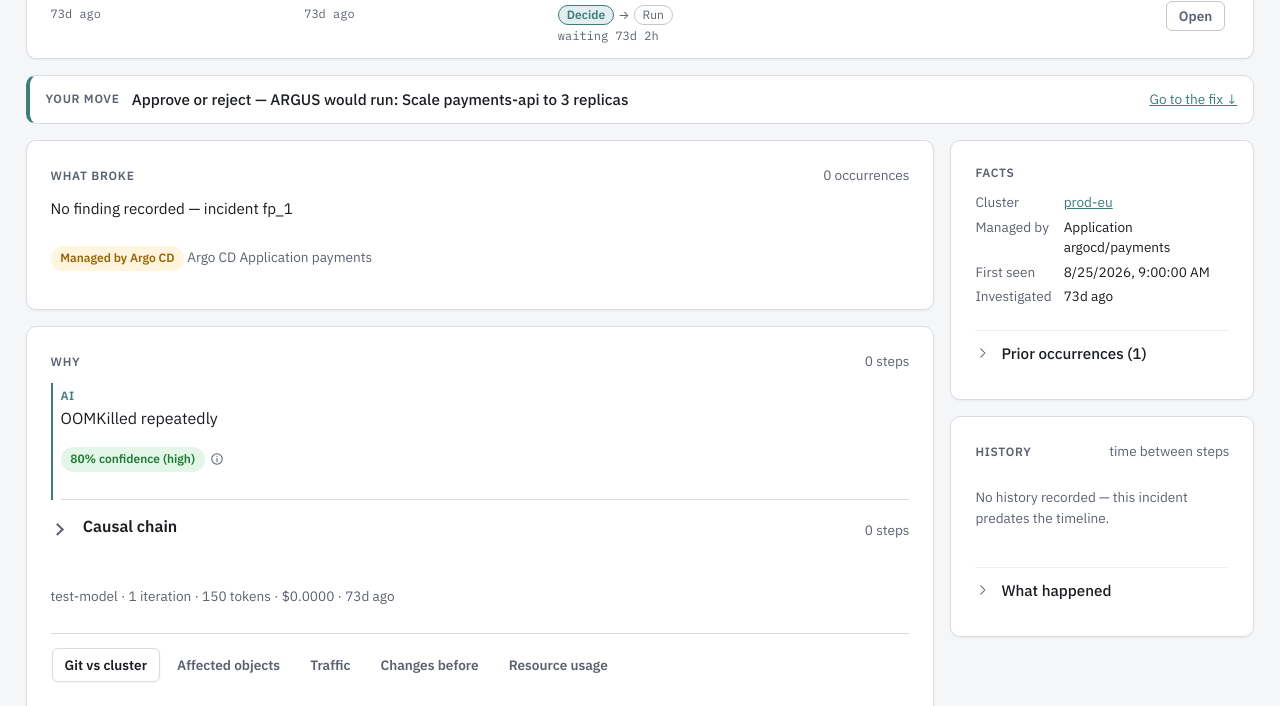
Test: IncidentDetailPage — prior occurrences on this object (PROJECT.md T7) › surfaces what was learned, and a rejection reason, from a prior closed incident on the same object
(page scrolled)
Expected: the element "What broke" is shown, [26,140,934,310]
Step 1. Click the button "Prior occurrences (1)" → (1102, 353), box [975,330,1229,375]
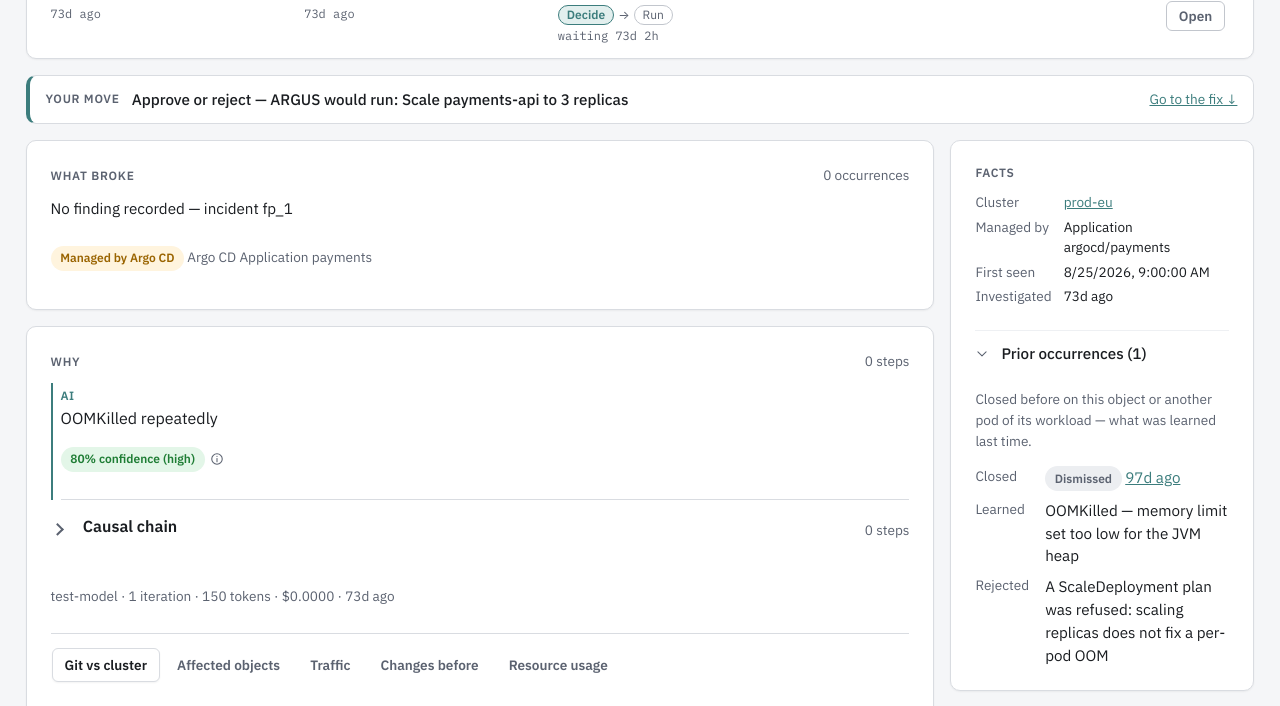
Result: the text "OOMKilled — memory limit set too low for the JVM heap" is shown at [1045,499,1229,567]
Result: the text "ScaleDeployment plan was refused" is shown at [1045,575,1229,666]
Result: the text "scaling replicas does not fix a per-pod OOM" is shown at [1045,599,1225,665]
